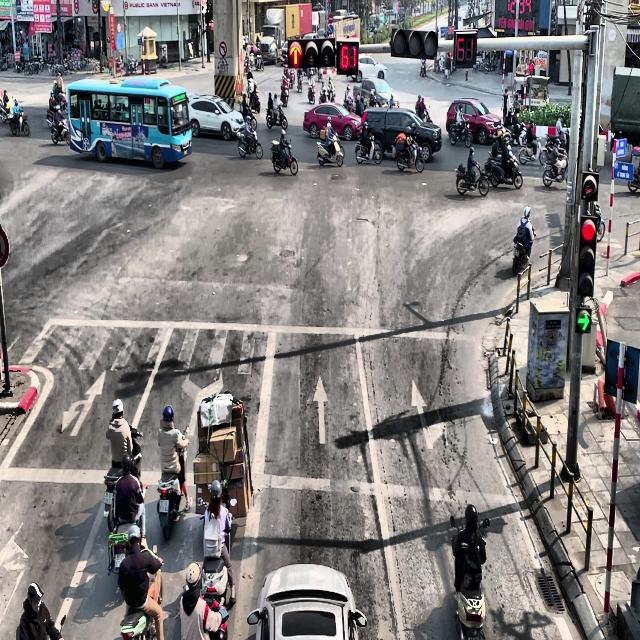BUS: (67, 78, 192, 169)
CAR: (247, 563, 367, 639), (187, 94, 245, 140), (446, 98, 502, 144), (303, 102, 362, 140)
MOTORBIKE: (450, 516, 489, 640), (120, 544, 164, 640), (103, 425, 143, 522), (107, 482, 148, 576), (157, 426, 190, 541), (487, 153, 523, 190), (455, 162, 489, 196), (394, 138, 424, 173), (317, 130, 344, 167), (271, 138, 298, 175), (542, 149, 568, 187), (46, 105, 70, 146), (355, 130, 382, 166), (512, 233, 535, 275), (237, 127, 263, 159), (448, 118, 473, 147), (518, 135, 542, 164), (266, 103, 287, 130), (9, 108, 29, 136), (0, 97, 16, 122), (248, 90, 260, 113), (307, 82, 316, 104), (422, 105, 432, 124), (326, 84, 336, 102), (280, 86, 288, 107), (420, 62, 427, 77), (297, 73, 302, 92)
TRAFFIC_LIGHT: (577, 214, 597, 297), (453, 29, 477, 68), (336, 40, 359, 75), (581, 169, 599, 201), (528, 61, 534, 76)
